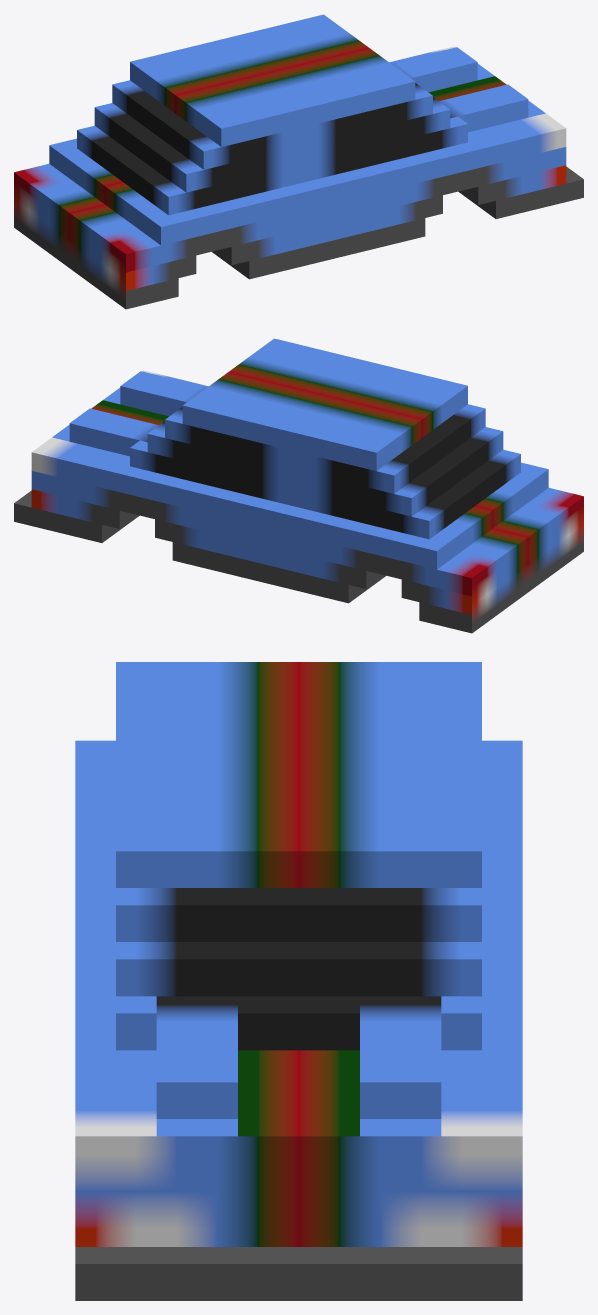
The model's file is vehicle_1.fbx.
3 renders of one model, top to bottom at view 1: azimuth 30°, elevation 25°; view 2: azimuth 150°, elevation 25°; view 3: azimuth 270°, elevation 25°, orthographic. The views are drawn at different scales.
Visible parts, largest first — view 1: Matrix_11; view 2: Matrix_11; view 3: Matrix_11.
Part boxes in pixels (x1,y1,x2,y2): Matrix_11: (14,14,583,309); Matrix_11: (14,338,583,633); Matrix_11: (75,662,522,1300).
Bounding box in the file's own units: 26 × 8 × 11.
1 material, 1 textured.
